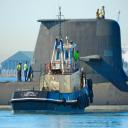submarine: (1, 20, 128, 111)
